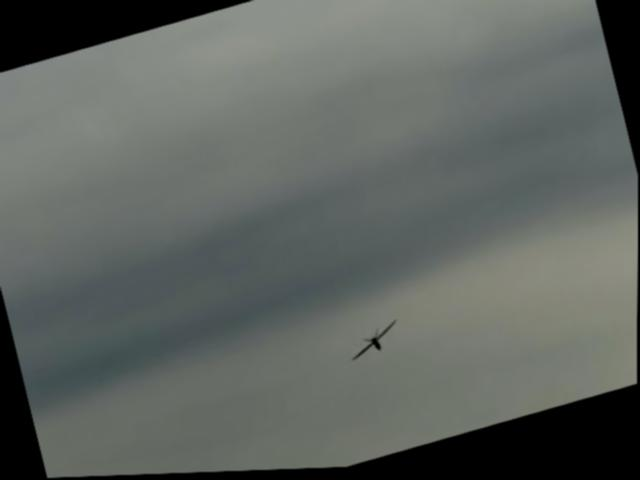uav: (338, 312, 412, 377)
